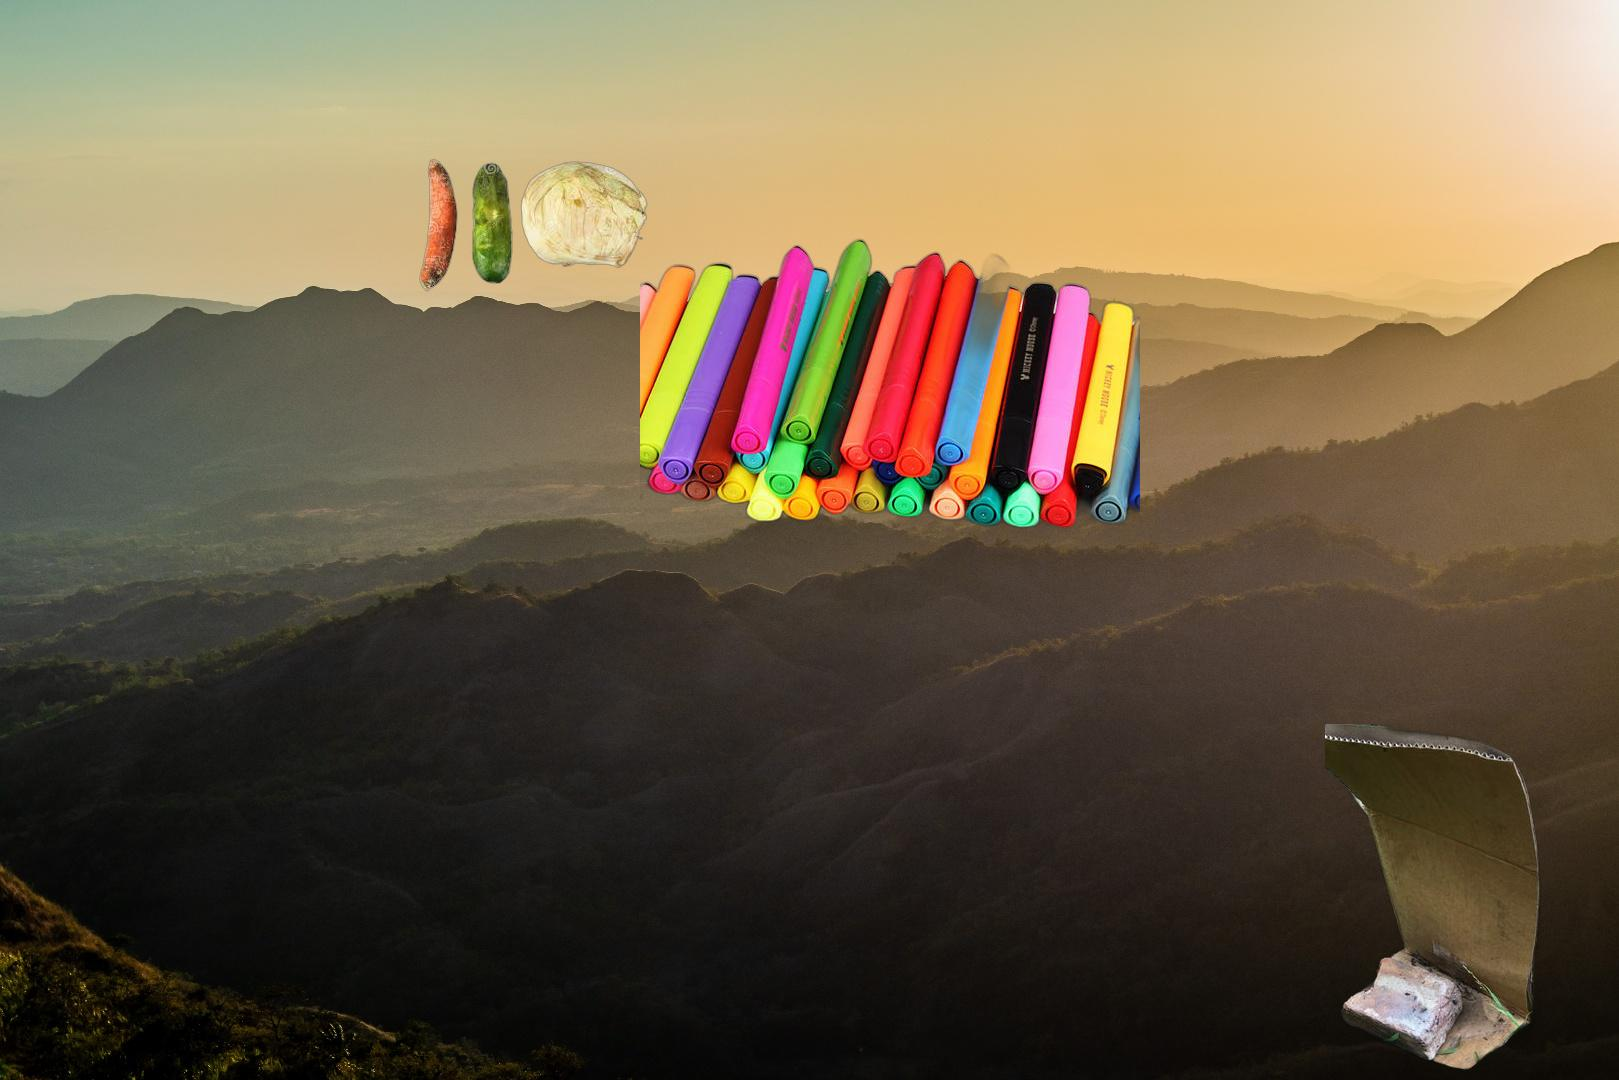biological: (417, 157, 650, 294)
penholder: (640, 235, 1140, 532)
trashbox-cardboard: (1325, 724, 1543, 1080)
